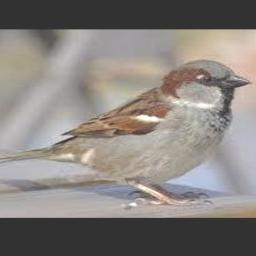Sparrow: (0, 59, 253, 205)
